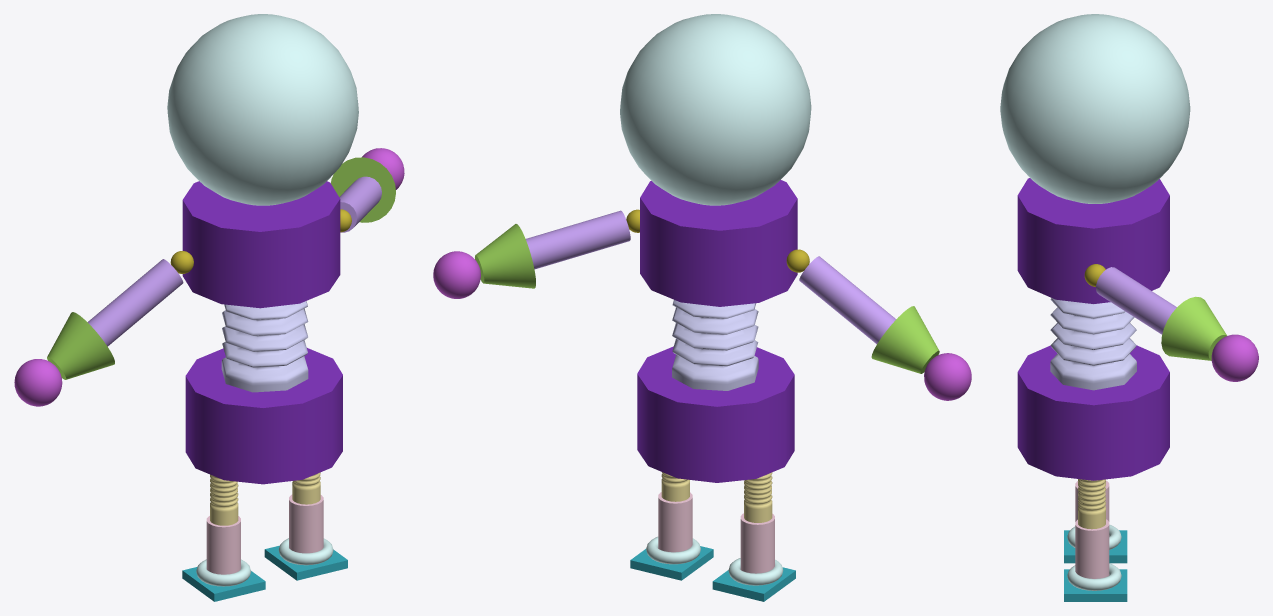
Rendered from robot.glb.
3 renders of one model, left to right at view 1: azimuth 30°, elevation 25°; view 2: azimuth 150°, elevation 25°; view 3: azimuth 270°, elevation 25°, orthographic.
Bounding box in the file's own units: 213 × 246 × 105.
